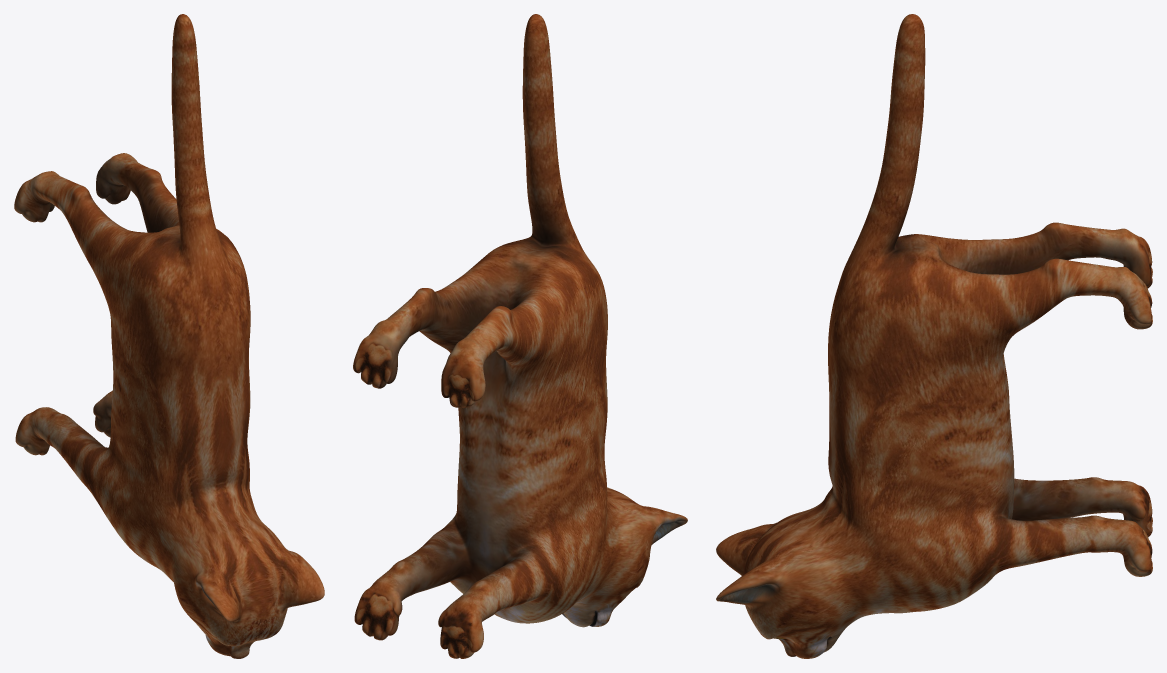
The model's file is Cat.glb.
The picture shows the model from 3 angles, left to right: view 1: azimuth 30°, elevation 25°; view 2: azimuth 150°, elevation 25°; view 3: azimuth 270°, elevation 25°; orthographic projection. The views are drawn at different scales.
Visible parts, largest first — view 1: Cat; view 2: Cat; view 3: Cat.
Part boxes in pixels (left/top/right/bottom): Cat: left=14, top=14, right=324, bottom=658; Cat: left=353, top=14, right=687, bottom=658; Cat: left=716, top=14, right=1152, bottom=658.
Size of the model in its own units: 12.55 by 60.88 by 37.61.
Materials: 1 (1 with a texture image).
